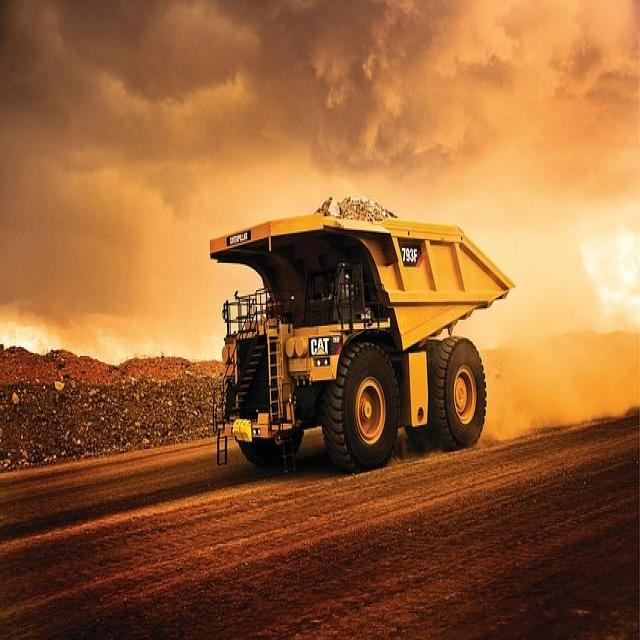dump_truck: (200, 197, 509, 459)
